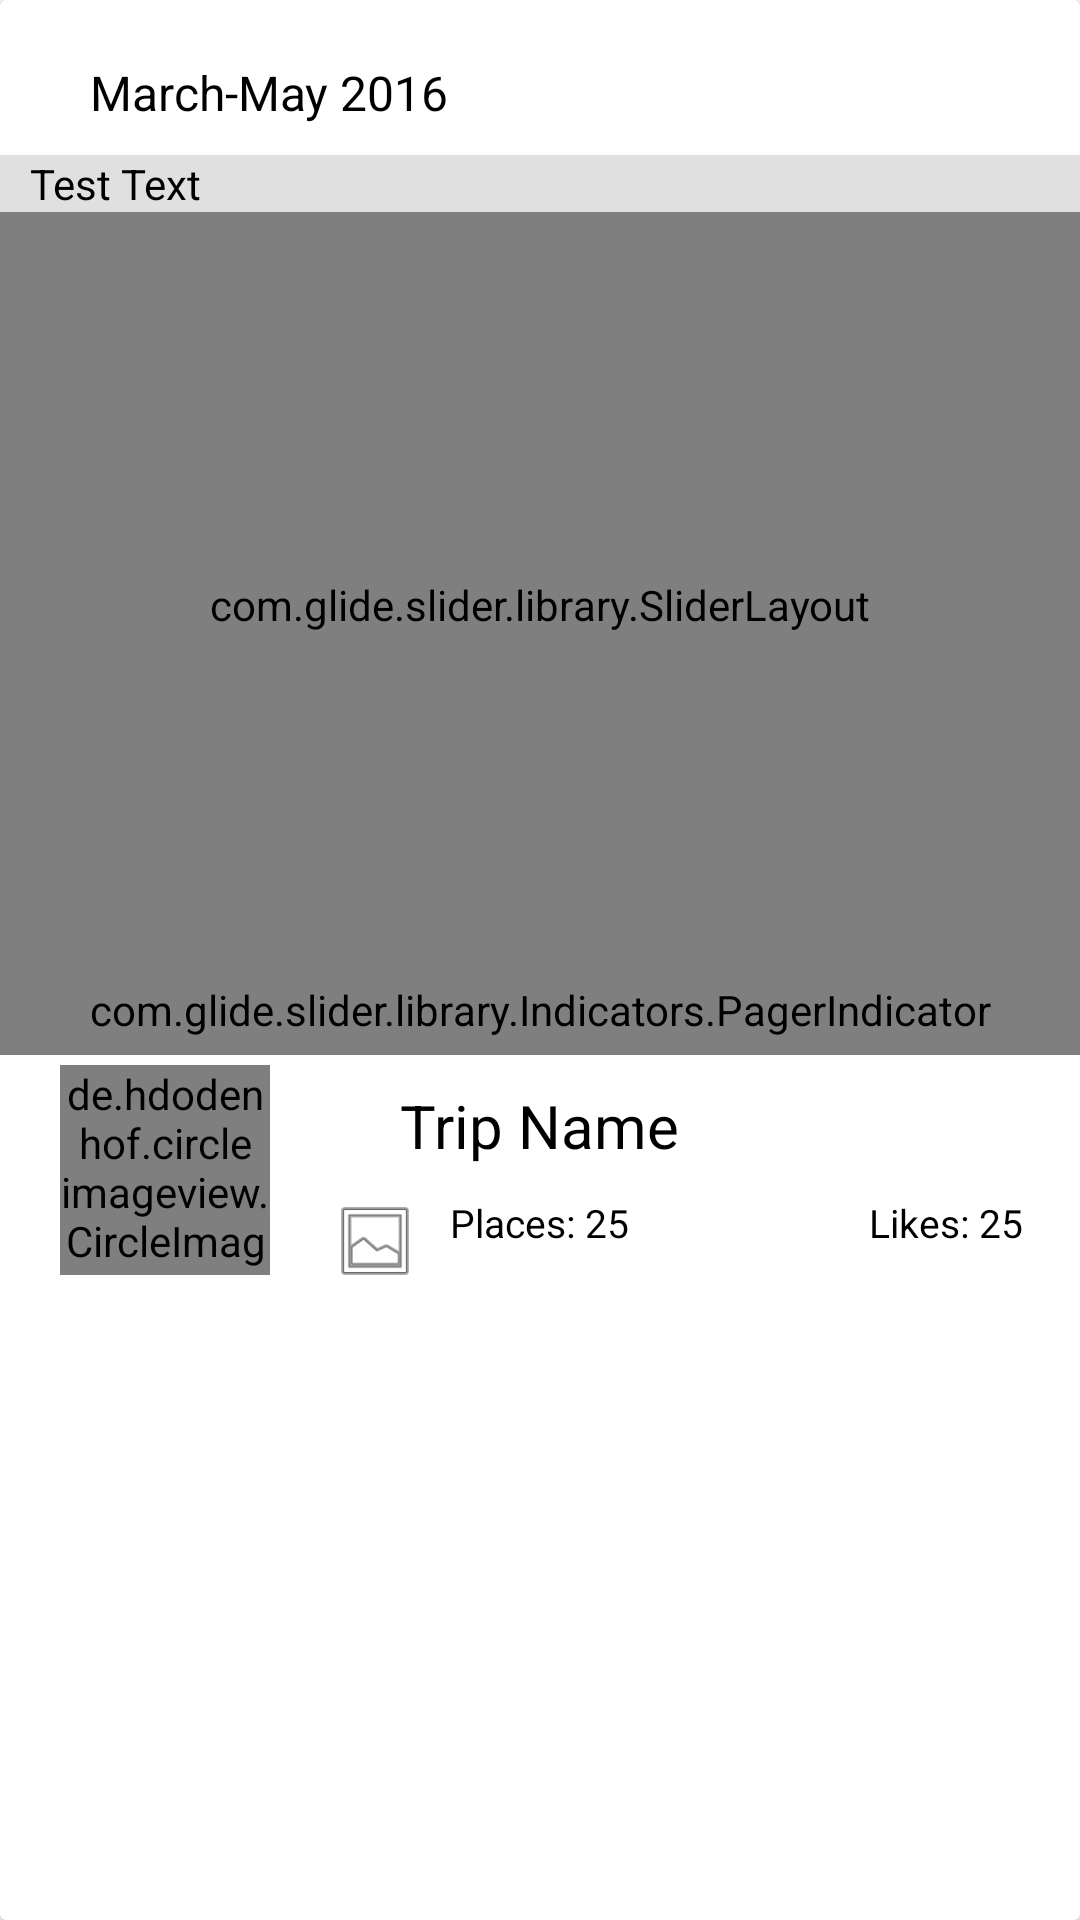

Icon bounding boxes for this 1080*1920 phone screenshot, format [x1=x1, y1=y1, x2=x2, y2=y2]:
gallery: [x1=341, y1=1207, x2=409, y2=1275]
